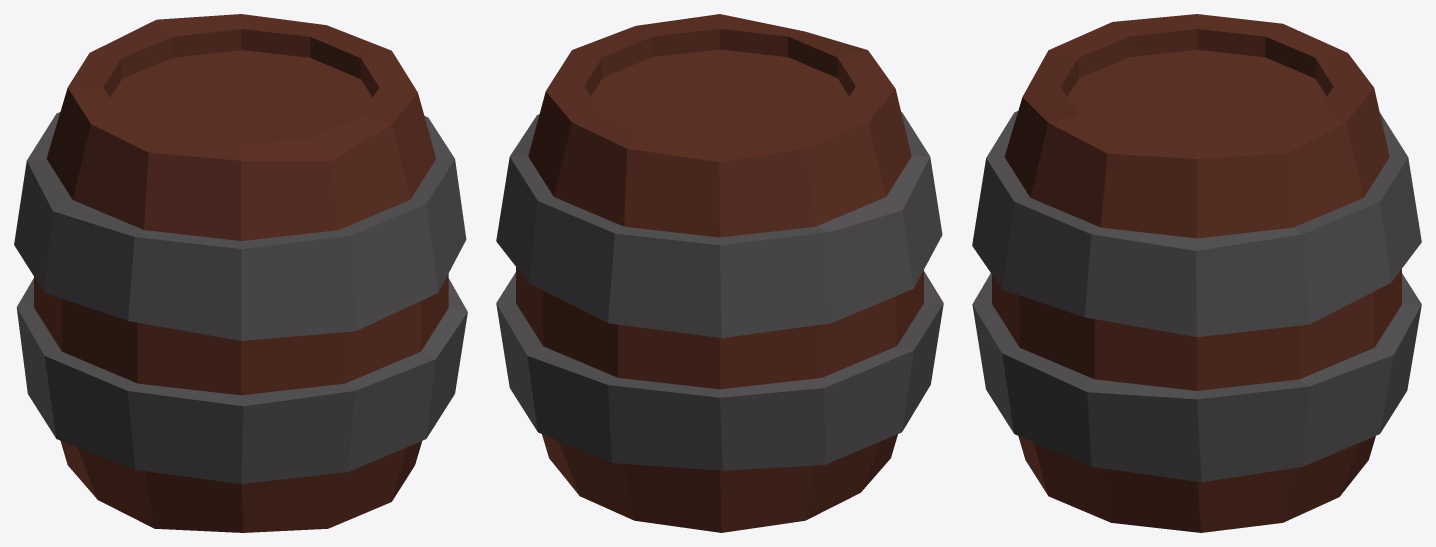
Rendered from Dungeonkutu.fbx.
The picture shows the model from 3 angles, left to right: view 1: azimuth 30°, elevation 25°; view 2: azimuth 150°, elevation 25°; view 3: azimuth 270°, elevation 25°; orthographic projection.
Visible parts, largest first — view 1: Fıçı; view 2: Fıçı; view 3: Fıçı.
Boxes of the visible parts, x1,y1,x2,y2 form: Fıçı: (14,14,467,532); Fıçı: (496,14,943,532); Fıçı: (972,14,1421,532).
Size of the model in its own units: 131 by 121 by 131.
